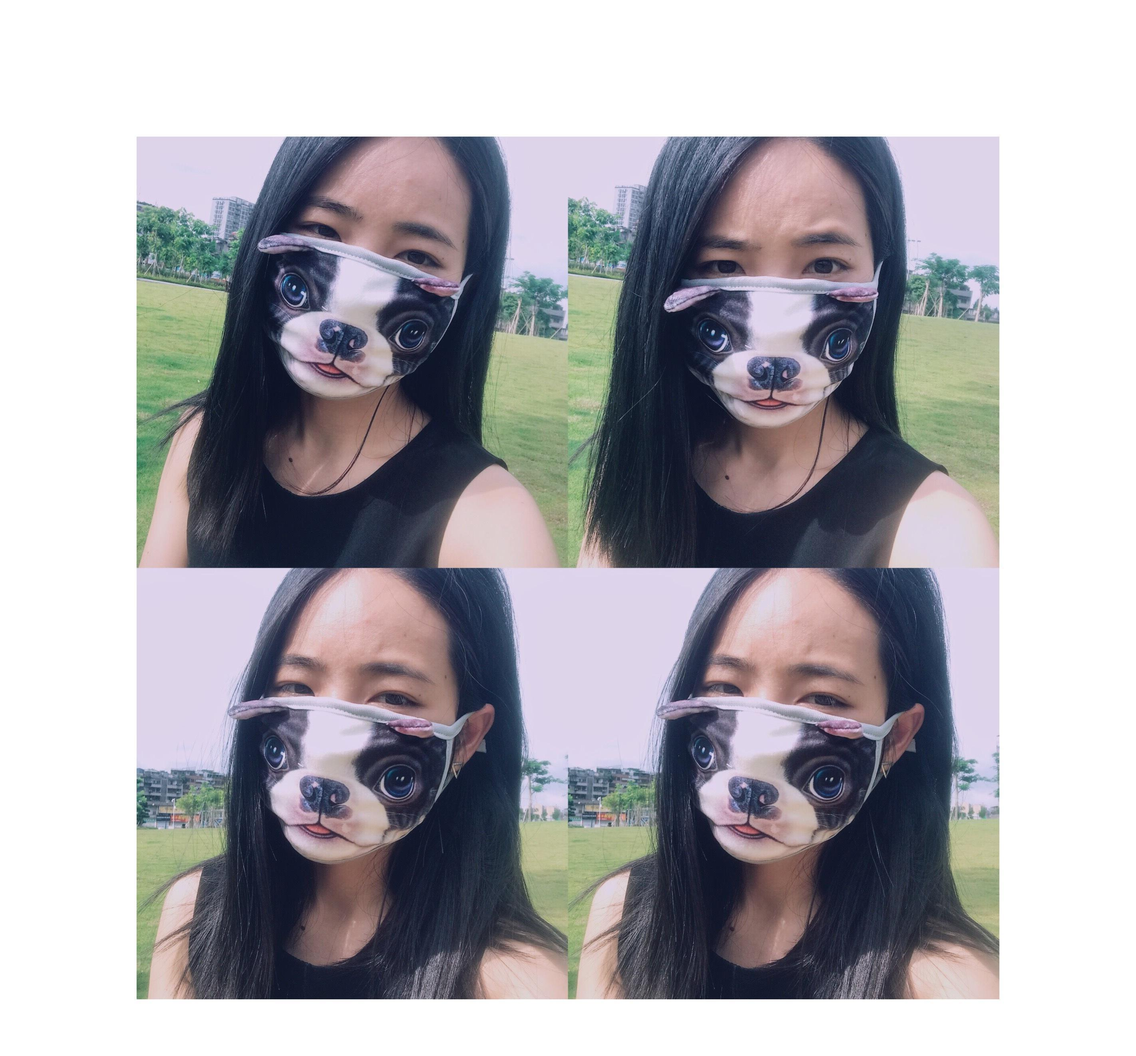OK: (248, 633, 475, 860), (672, 634, 898, 860), (660, 217, 882, 439), (257, 181, 473, 397)
